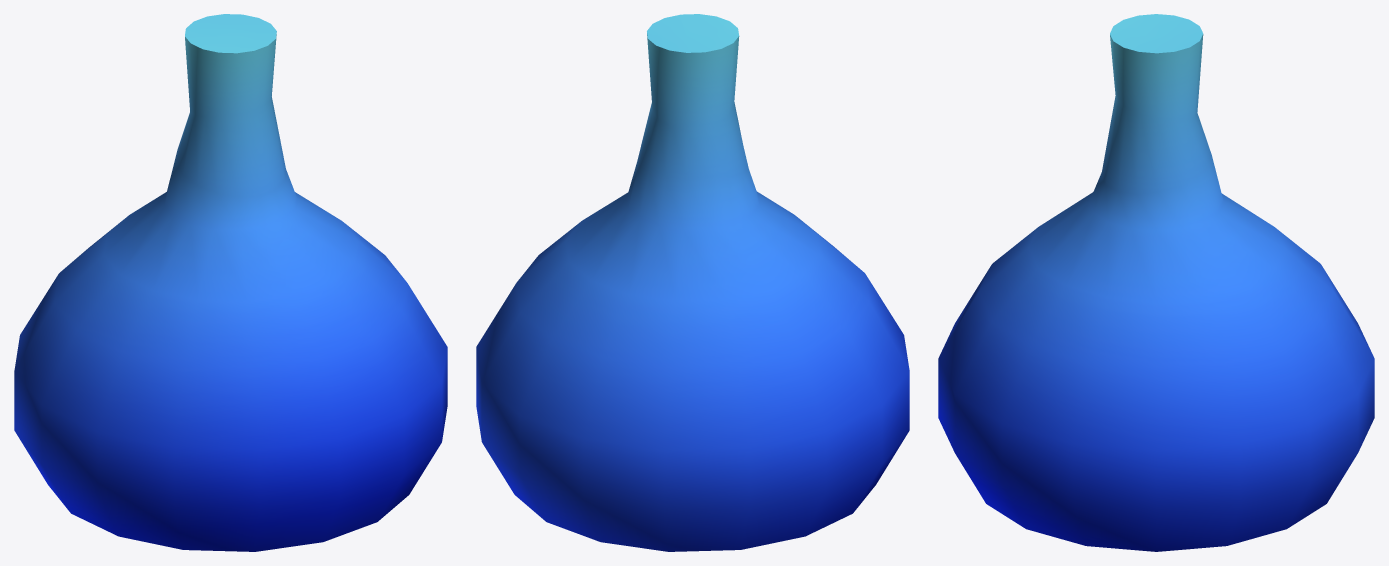
Rendered from ManaFill1.fbx.
The picture shows the model from 3 angles, left to right: view 1: azimuth 30°, elevation 25°; view 2: azimuth 150°, elevation 25°; view 3: azimuth 270°, elevation 25°; orthographic projection.
Parts seen in each view (by area): view 1: ManaFill; view 2: ManaFill; view 3: ManaFill.
Part boxes in pixels (bbox=[...]): ManaFill: bbox=[14, 14, 447, 551]; ManaFill: bbox=[476, 14, 909, 551]; ManaFill: bbox=[938, 14, 1374, 551].
Bounding box in the file's own units: 17.24 × 19.21 × 17.24.
